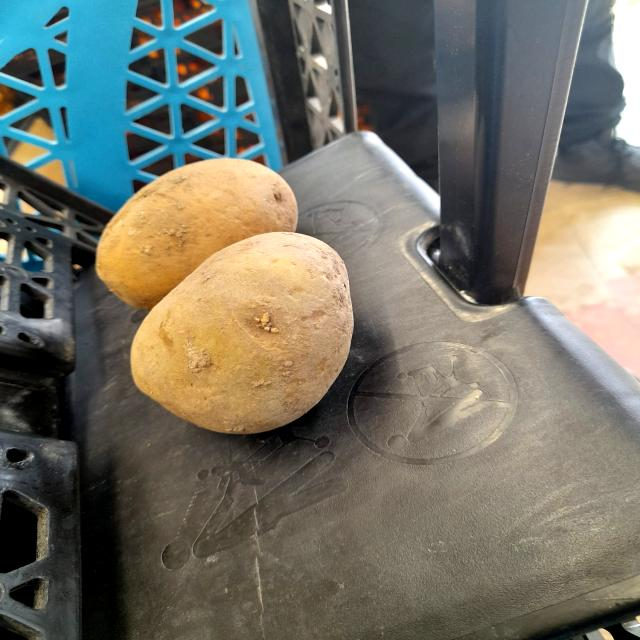potato: (118, 232, 376, 438), (94, 152, 307, 307)
